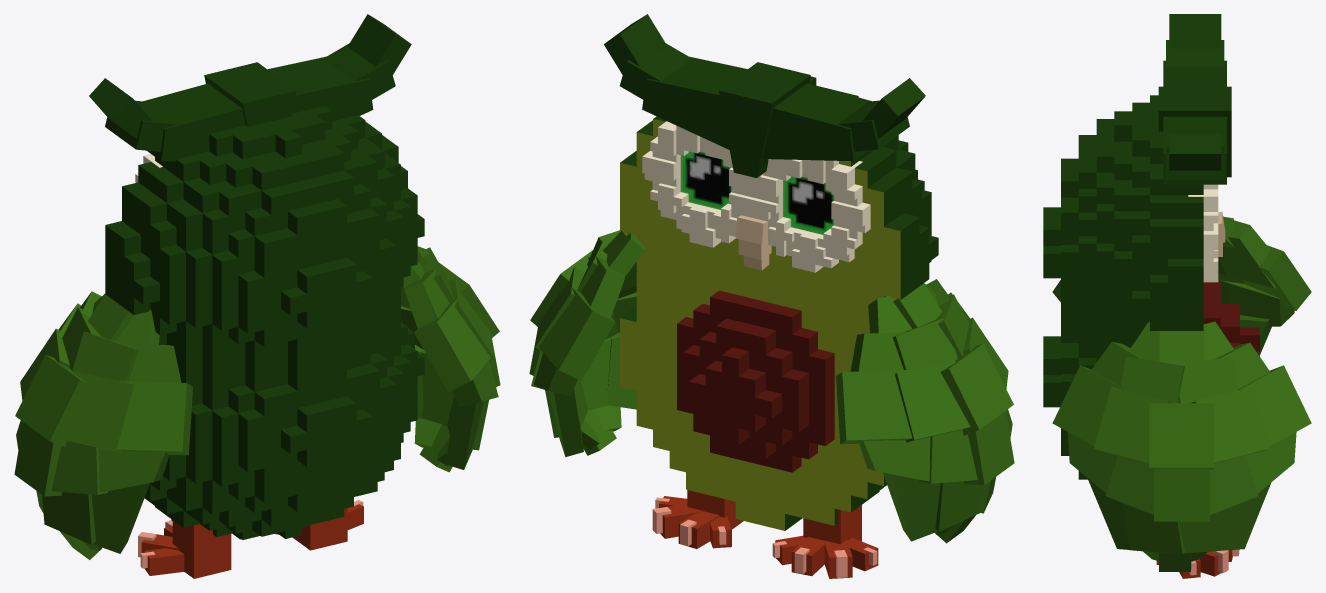
3 renders of one model, left to right at view 1: azimuth 30°, elevation 25°; view 2: azimuth 150°, elevation 25°; view 3: azimuth 270°, elevation 25°, orthographic. The views are drawn at different scales.
Visible parts, largest first — view 1: Sphere1, Cube0071, Cube0061; view 2: Cube0071, Sphere0021, Sphere1, Sphere0011, Cylinder0011, Cube0061, Cube0011; view 3: Cube0071, Sphere1, Sphere0011, Cylinder0011, Cube0061, Cube0011.
Part boxes in pixels (<box>): Sphere1: <box>89,14,424,539</box>; Cube0071: <box>14,246,500,559</box>; Cube0061: <box>141,504,363,578</box>; Cube0071: <box>529,230,1014,543</box>; Sphere0021: <box>620,119,900,530</box>; Sphere1: <box>604,14,938,530</box>; Sphere0011: <box>677,290,834,472</box>; Cylinder0011: <box>642,121,870,272</box>; Cube0061: <box>659,490,878,578</box>; Cube0011: <box>652,497,877,577</box>; Cube0071: <box>1052,216,1311,571</box>; Sphere1: <box>1043,14,1231,479</box>; Sphere0011: <box>1203,280,1259,356</box>; Cylinder0011: <box>1188,184,1225,282</box>; Cube0061: <box>1156,550,1232,578</box>; Cube0011: <box>1189,549,1239,575</box>.
Bounding box in the file's own units: 6.3 × 6.47 × 3.44.
7 materials, 1 textured.
